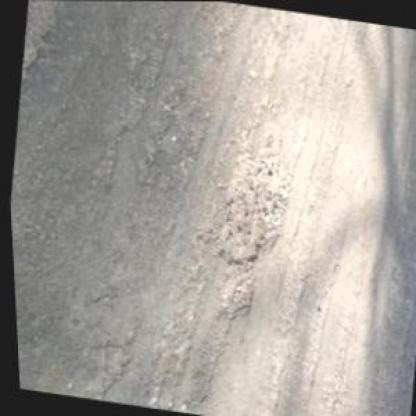pothole: (209, 150, 290, 273), (209, 265, 254, 322)
